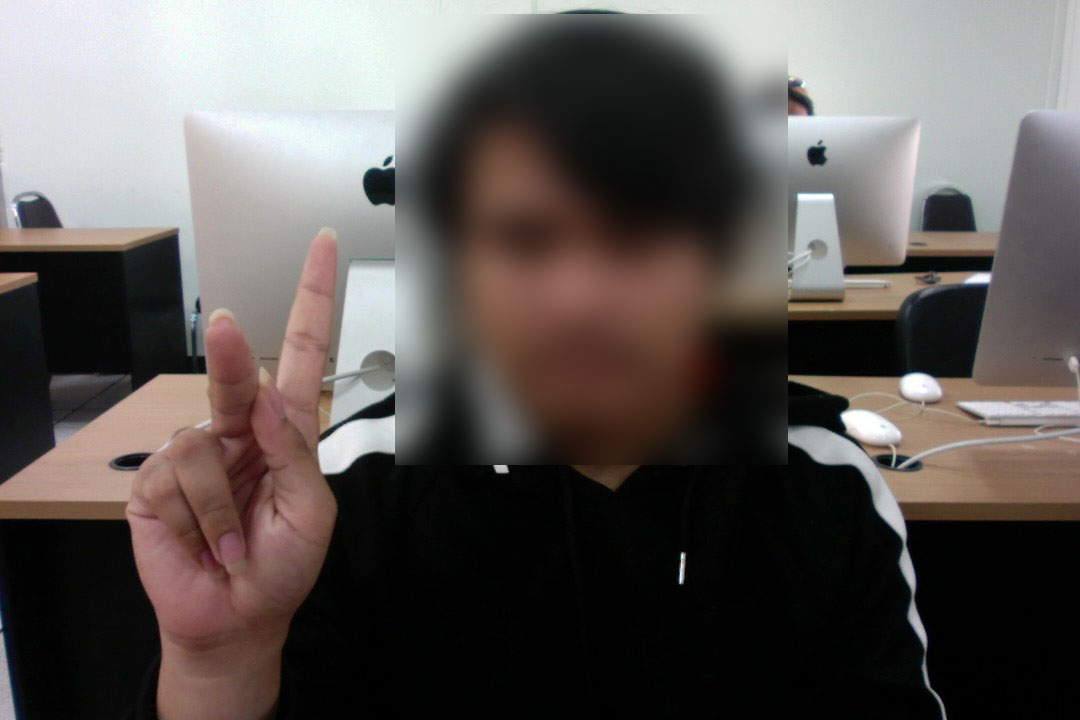ko: (117, 220, 359, 668)
